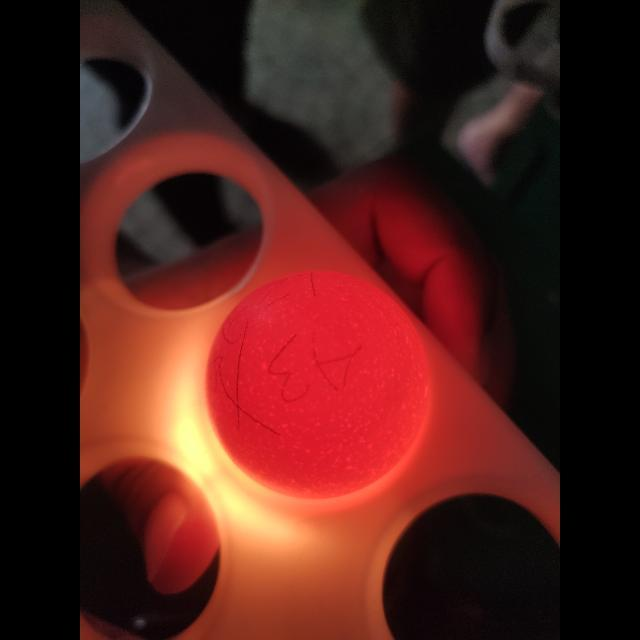Infertile: (198, 263, 438, 505)
